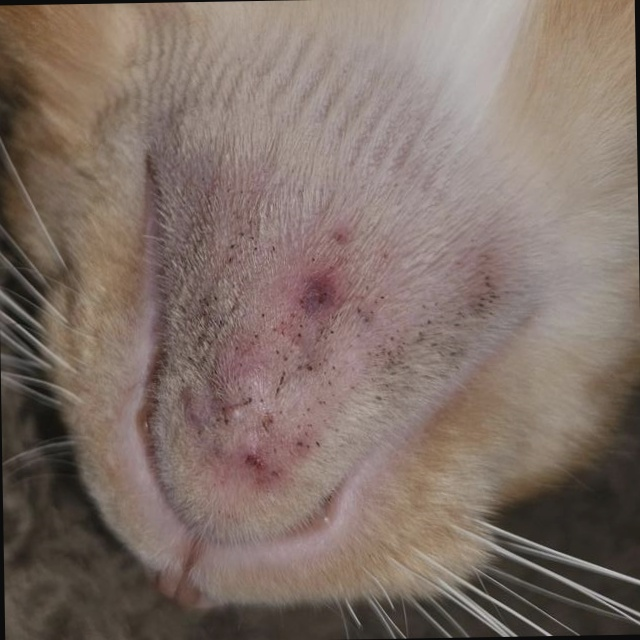acne: (165, 209, 520, 483)
